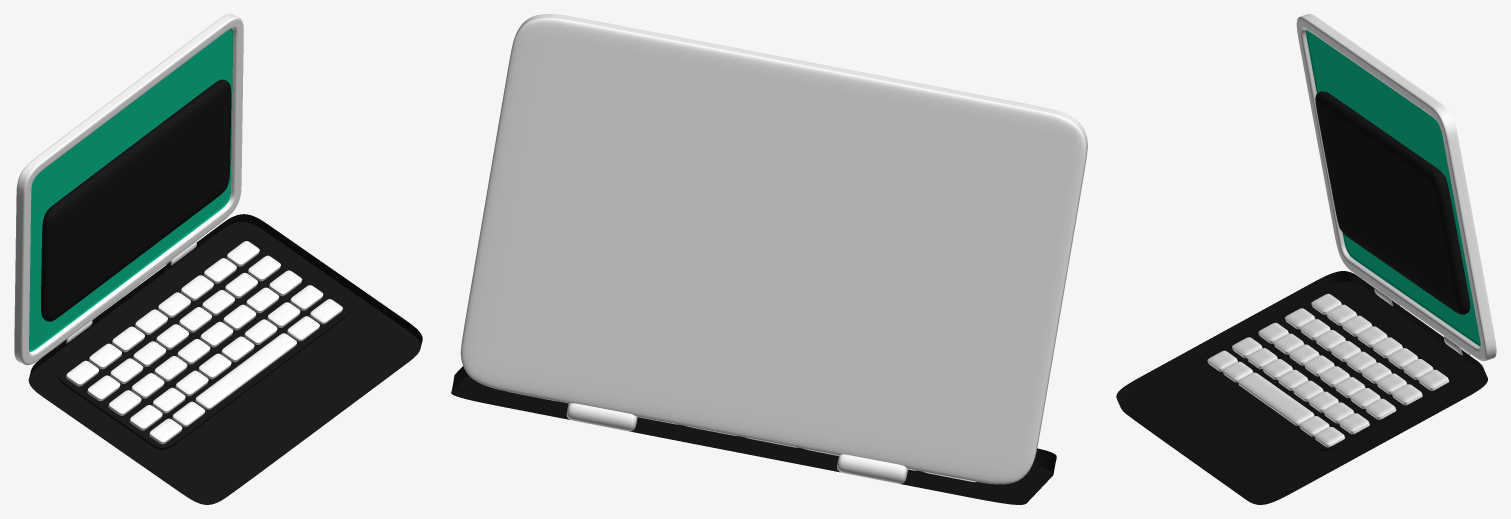
File: laptop-3d-animated-icon-1388262184456.glb
3 renders of one model, left to right at view 1: azimuth 30°, elevation 25°; view 2: azimuth 150°, elevation 25°; view 3: azimuth 270°, elevation 25°, orthographic. The views are drawn at different scales.
Visible parts, largest first — view 1: Body, Plane.163, Plane.160, Plane.162, Plane.143; view 2: Plane.143, Body, Cylinder.166; view 3: Body, Plane.163, Plane.160, Plane.143, Plane.162.
Boxes of the visible parts, <box> form: Body: <box>28,214,422,504</box>; Plane.163: <box>41,79,231,321</box>; Plane.160: <box>66,241,342,444</box>; Plane.162: <box>29,29,233,351</box>; Plane.143: <box>14,14,243,365</box>; Plane.143: <box>460,14,1087,484</box>; Body: <box>451,366,1056,504</box>; Cylinder.166: <box>566,403,907,483</box>; Body: <box>1116,271,1487,504</box>; Plane.163: <box>1315,91,1470,314</box>; Plane.160: <box>1207,293,1449,447</box>; Plane.143: <box>1296,14,1496,361</box>; Plane.162: <box>1306,30,1480,346</box>.
Bounding box in the file's own units: 5.43 × 4.63 × 4.14.
